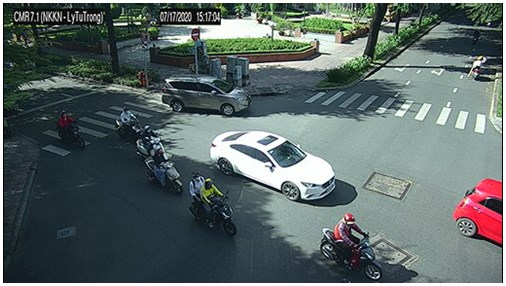xe_hoi: (209, 131, 335, 199), (162, 74, 251, 115), (452, 178, 502, 245)
xe_may: (320, 213, 385, 280), (188, 170, 238, 236), (145, 146, 184, 193), (58, 110, 87, 149), (137, 125, 165, 162), (116, 108, 142, 140), (468, 58, 485, 83), (470, 29, 482, 44)
